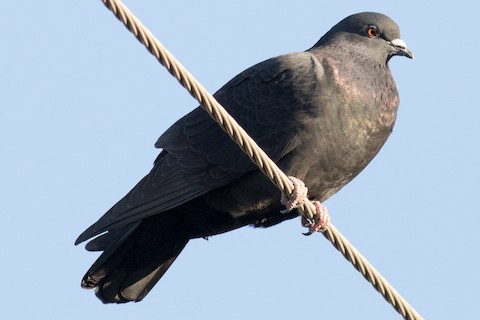pigeon: (73, 8, 419, 307)
